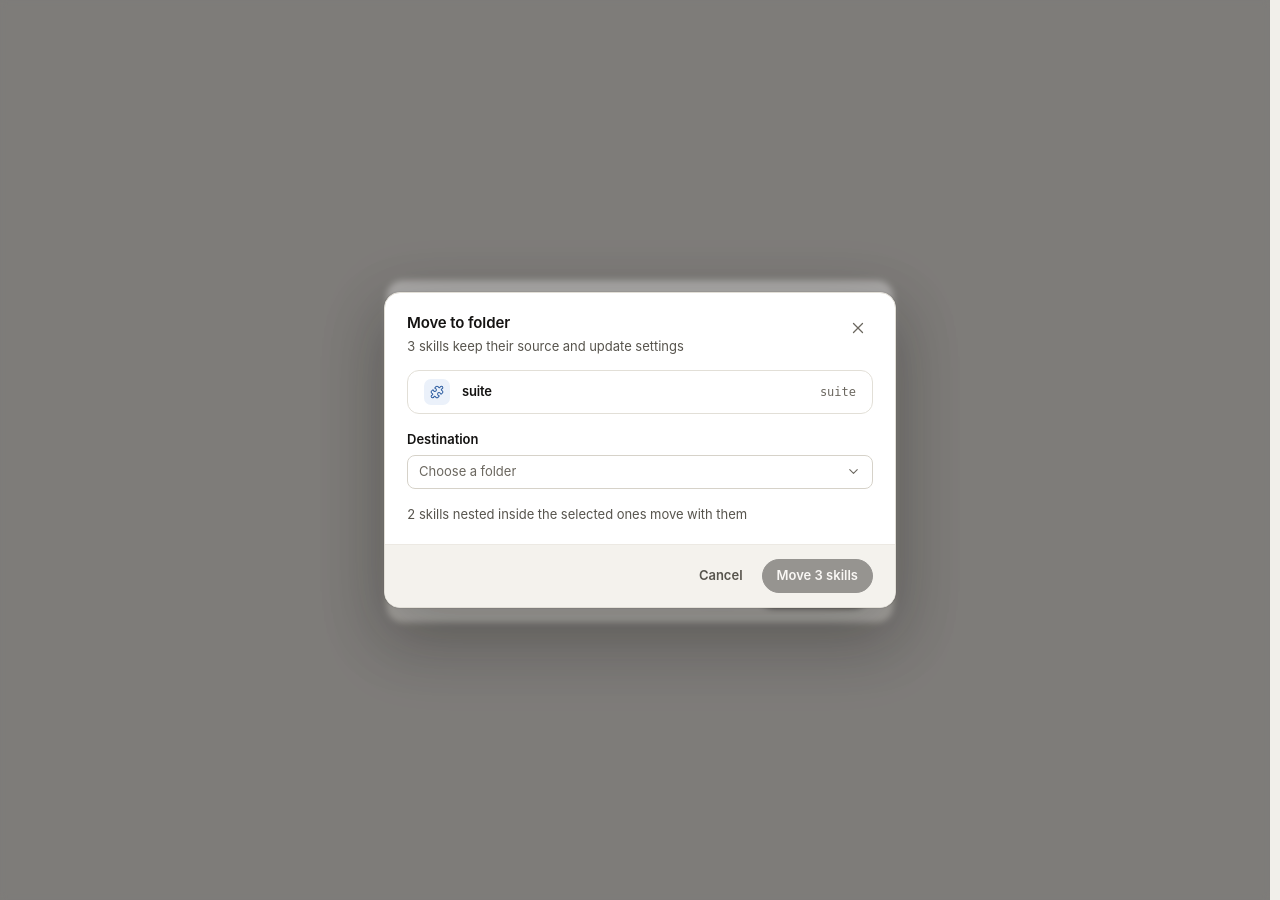
MoveDialog › says how many skills nested inside the selected ones move with them
Expected: the text "2 skills nested inside the selected ones move with them" is shown, [407, 506, 747, 522]
Click the dropdown named "Destination" at [468, 471], box [407, 455, 873, 489]
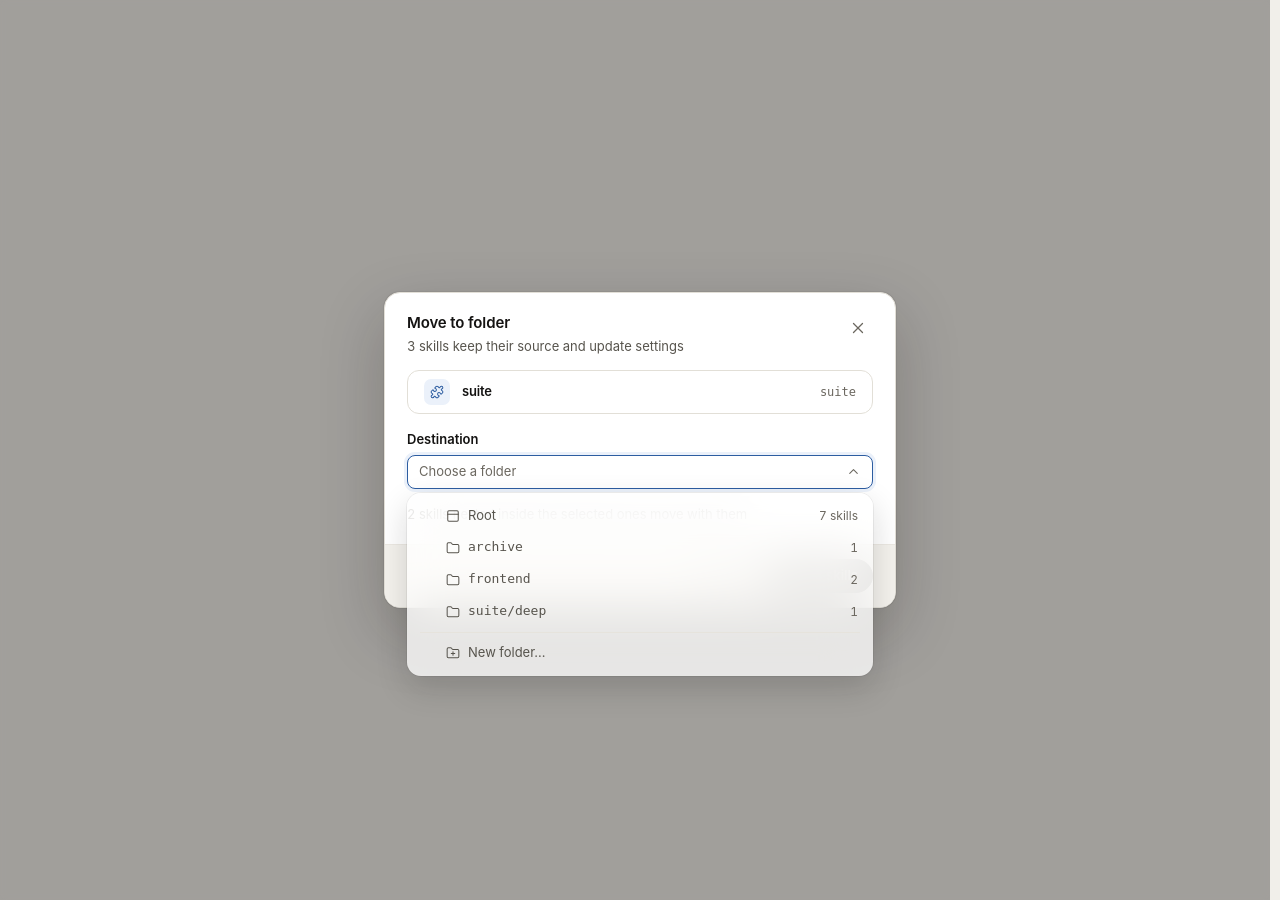
Click the option "archive 1" at [495, 547], box [446, 539, 858, 555]
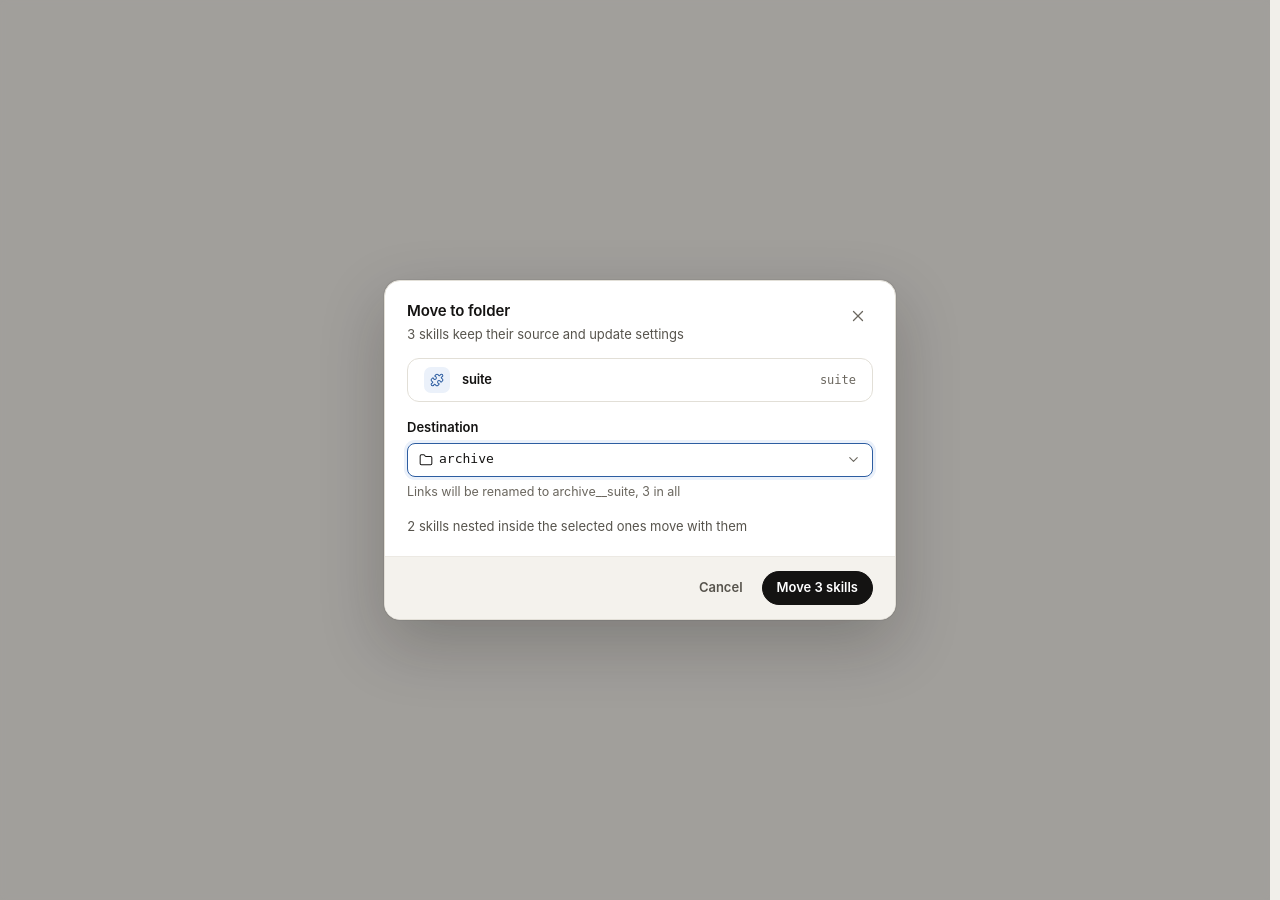
Expected: the button "Move 3 skills" is enabled, [762, 571, 873, 605]
